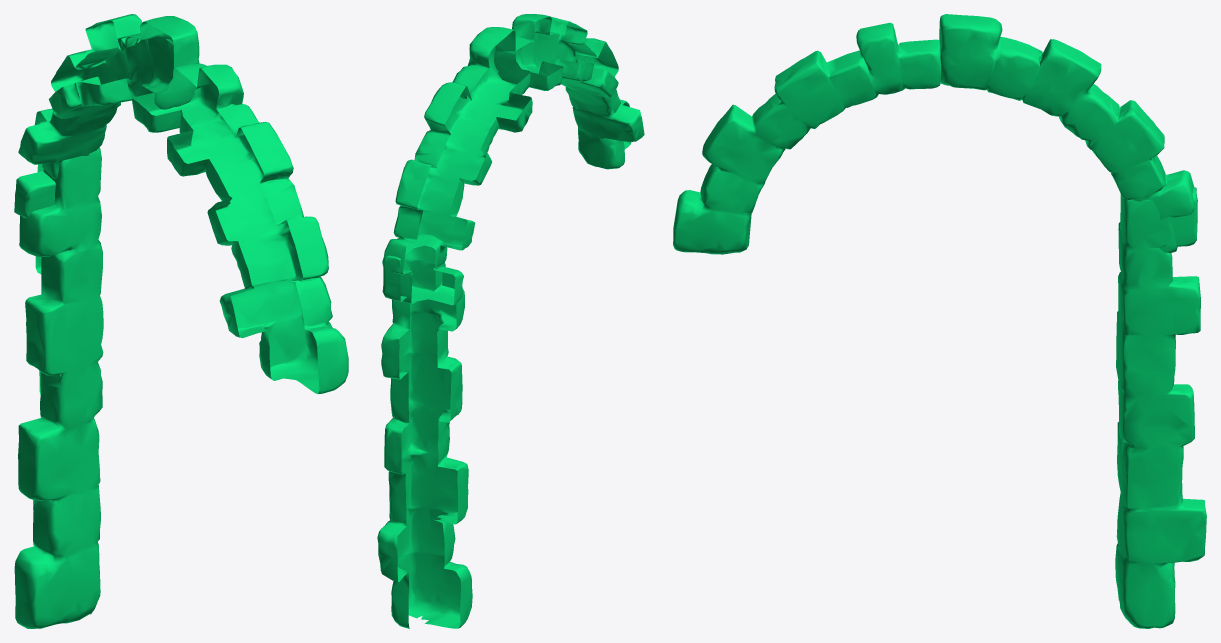
File: InfernoColumnaHedionda.fbx
3 views of the same model, side by side, from view 1: azimuth 30°, elevation 25°; view 2: azimuth 150°, elevation 25°; view 3: azimuth 270°, elevation 25° (orthographic). The views are drawn at different scales.
Visible parts, largest first — view 1: node000_world_lr0_agg184_513_inferno_stone_wall_09_trim.533; view 2: node000_world_lr0_agg184_513_inferno_stone_wall_09_trim.533; view 3: node000_world_lr0_agg184_513_inferno_stone_wall_09_trim.533.
Part boxes in pixels (<box>): node000_world_lr0_agg184_513_inferno_stone_wall_09_trim.533: <box>14,14,348,628</box>; node000_world_lr0_agg184_513_inferno_stone_wall_09_trim.533: <box>377,14,644,628</box>; node000_world_lr0_agg184_513_inferno_stone_wall_09_trim.533: <box>673,14,1206,628</box>.
Bounding box in the file's own units: 67.7 × 523 × 419.
